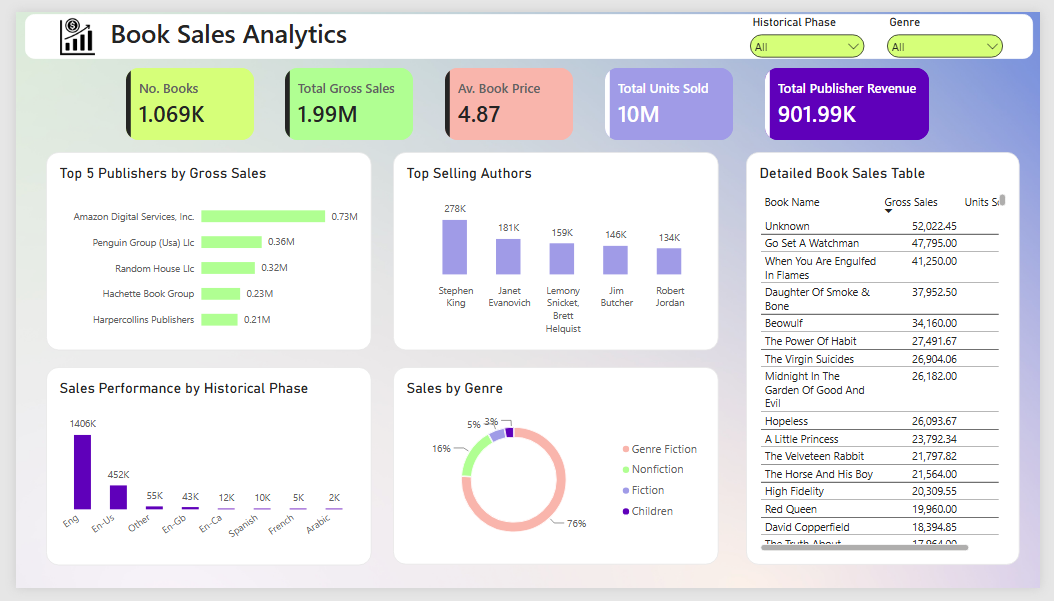

Layout of this report page (visuals, bound fields, positions):
{"tool":"powerbi","page":{"name":"Book Sales Analytics","canvas":[1280,720],"ordinal":0},"visuals":[{"type":"textbox","box":[10.6,3,1260.1,55.8],"z":0},{"type":"cardVisual","fields":{"Data":["CountNonNull(Fact Book Sales.Book ID)"]},"box":[250.6,68.7,160,90],"z":1000},{"type":"cardVisual","fields":{"Data":["Sum(Fact Book Sales.Gross Sales)"]},"box":[450,68.7,160,90],"z":2000},{"type":"cardVisual","fields":{"Data":["Sum(Fact Book Sales.Units Sold)"]},"box":[850,68.7,160,90],"z":3000},{"type":"cardVisual","fields":{"Data":["Sum(Fact Book Sales.Publisher Revenue)"]},"box":[1050,68.7,205,90],"z":4000},{"type":"cardVisual","fields":{"Data":["Avg(Fact Book Sales.Price)"]},"box":[650,68.7,160,90],"z":5000},{"type":"barChart","title":"Top 5 Publishers by Gross Sales","fields":{"Category":["Dim Books Info.Publisher "],"Y":["Sum(Fact Book Sales.Gross Sales)"]},"box":[37.6,175.1,406.7,248.4],"z":6000},{"type":"donutChart","title":"Sales by Genre","fields":{"Category":["Dim Books Info.Genre"],"Y":["Sum(Fact Book Sales.Units Sold)"]},"box":[471.6,443.3,406.9,246.6],"z":7000},{"type":"columnChart","title":"Top Selling Authors","fields":{"Category":["Dim Books Info.Author"],"Y":["Sum(Fact Book Sales.Units Sold)"]},"box":[471.6,175.2,407,248],"z":8000},{"type":"columnChart","title":"Sales Performance by Historical Phase","fields":{"Category":["Dim Books Info.Language"],"Y":["Sum(Fact Book Sales.Gross Sales)"]},"box":[37.7,443.3,406.9,247.9],"z":9000},{"type":"tableEx","title":"Detailed Book Sales Table","fields":{"Values":["Dim Books Info.Book Name","Sum(Fact Book Sales.Gross Sales)","Sum(Fact Book Sales.Units Sold)"]},"box":[912.2,175.2,342.2,516],"z":10000},{"type":"slicer","fields":{"Values":["Dim Books Info.Genre"]},"box":[1083.8,5,155,56.2],"z":11000},{"type":"slicer","fields":{"Values":["Dim Date.Historical Phase"]},"box":[912.5,5,152.5,55],"z":12000},{"type":"image","box":[37.5,6.2,78.8,48.8],"z":12001},{"type":"pageNavigator","box":[10.3,68.4,222.2,45.6],"z":12002},{"type":"pageNavigator","box":[10.3,121.9,222.2,45.6],"z":12003},{"type":"image","box":[174.3,71.8,58.1,37.6],"z":12004},{"type":"image","box":[9.1,71.8,57,39.9],"z":12005},{"type":"image","box":[9.1,121.9,55.8,44.4],"z":12006}]}

Visuals, with their boxes in screenshot pixels (x1, y1, x2, y2), scaled from the page's 1280x720 canvas onto the 1054x601 screenshot:
textbox: 9 3 1046 49
cardVisual - CountNonNull(Fact Book Sales.Book ID): 206 57 338 132
cardVisual - Sum(Fact Book Sales.Gross Sales): 371 57 502 132
cardVisual - Sum(Fact Book Sales.Units Sold): 700 57 832 132
cardVisual - Sum(Fact Book Sales.Publisher Revenue): 865 57 1033 132
cardVisual - Avg(Fact Book Sales.Price): 535 57 667 132
"Top 5 Publishers by Gross Sales" barChart: 31 146 366 354
"Sales by Genre" donutChart: 388 370 723 576
"Top Selling Authors" columnChart: 388 146 723 353
"Sales Performance by Historical Phase" columnChart: 31 370 366 577
"Detailed Book Sales Table" tableEx: 751 146 1033 577
slicer - Dim Books Info.Genre: 892 4 1020 51
slicer - Dim Date.Historical Phase: 751 4 877 50
image: 31 5 96 46
pageNavigator: 8 57 191 95
pageNavigator: 8 102 191 140
image: 144 60 191 91
image: 7 60 54 93
image: 7 102 53 139
